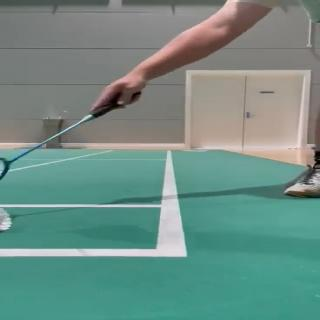Shuttle: (0, 208, 13, 232)
